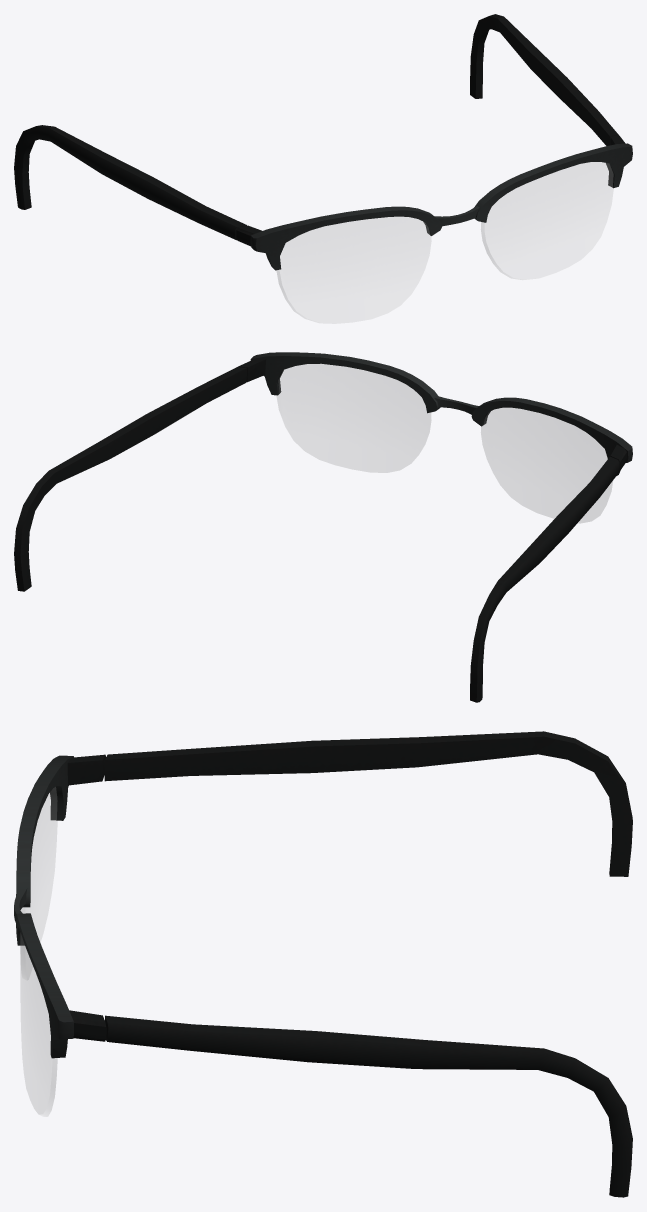
The picture shows the model from 3 angles, top to bottom: view 1: azimuth 30°, elevation 25°; view 2: azimuth 150°, elevation 25°; view 3: azimuth 270°, elevation 25°; orthographic projection. The views are drawn at different scales.
Parts seen in each view (by area): view 1: Wolf3D_Glasses; view 2: Wolf3D_Glasses; view 3: Wolf3D_Glasses.
Part boxes in pixels (x1,y1,x2,y2): Wolf3D_Glasses: (14,14,632,323); Wolf3D_Glasses: (14,352,632,702); Wolf3D_Glasses: (14,731,632,1197).
Bounding box in the file's own units: 0.165 × 0.0379 × 0.1315.
1 material, 1 textured.
